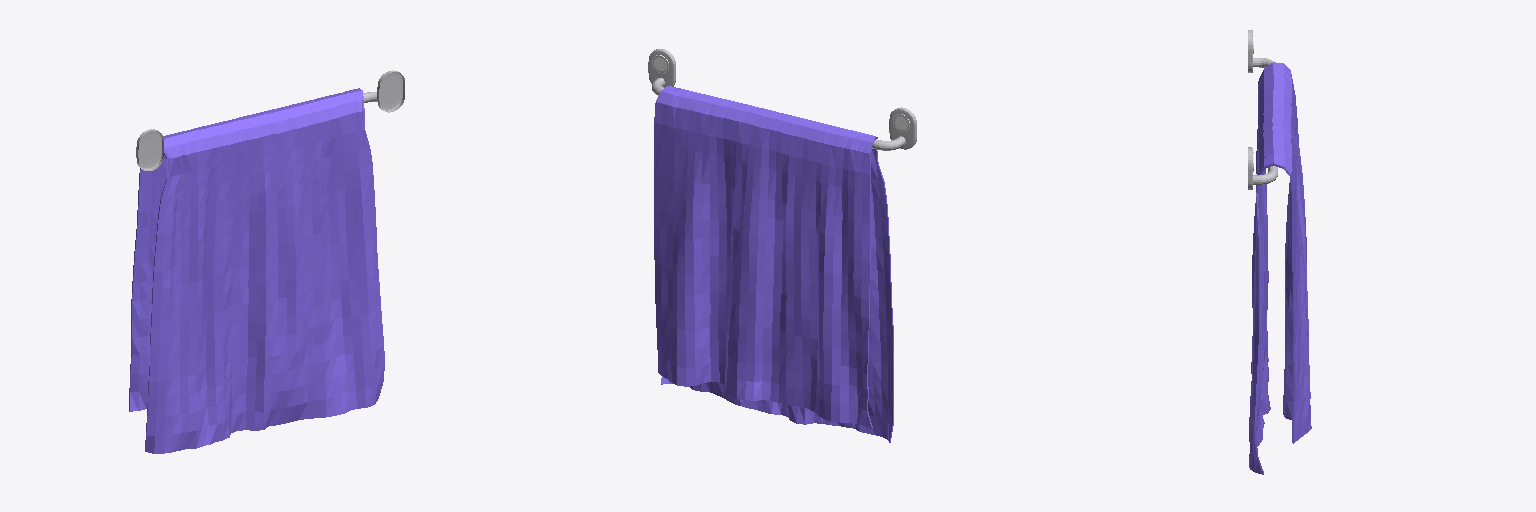
The model's file is handtuch.obj.
3 views of the same model, side by side, from view 1: azimuth 30°, elevation 25°; view 2: azimuth 150°, elevation 25°; view 3: azimuth 270°, elevation 25° (orthographic).
Parts seen in each view (by area): view 1: Plane.067, Cube.004, Cube.005; view 2: Plane.067, Cube.005, Cube.004; view 3: Plane.067.
Part boxes in pixels (x1,y1,x2,y2): Plane.067: (129,88,384,453); Cube.004: (377,70,404,112); Cube.005: (136,129,163,170); Plane.067: (654,86,893,442); Cube.005: (889,107,916,149); Cube.004: (648,49,675,87); Plane.067: (1249,62,1311,474).
Bounding box in the file's own units: 0.62 × 0.7373 × 0.1277.